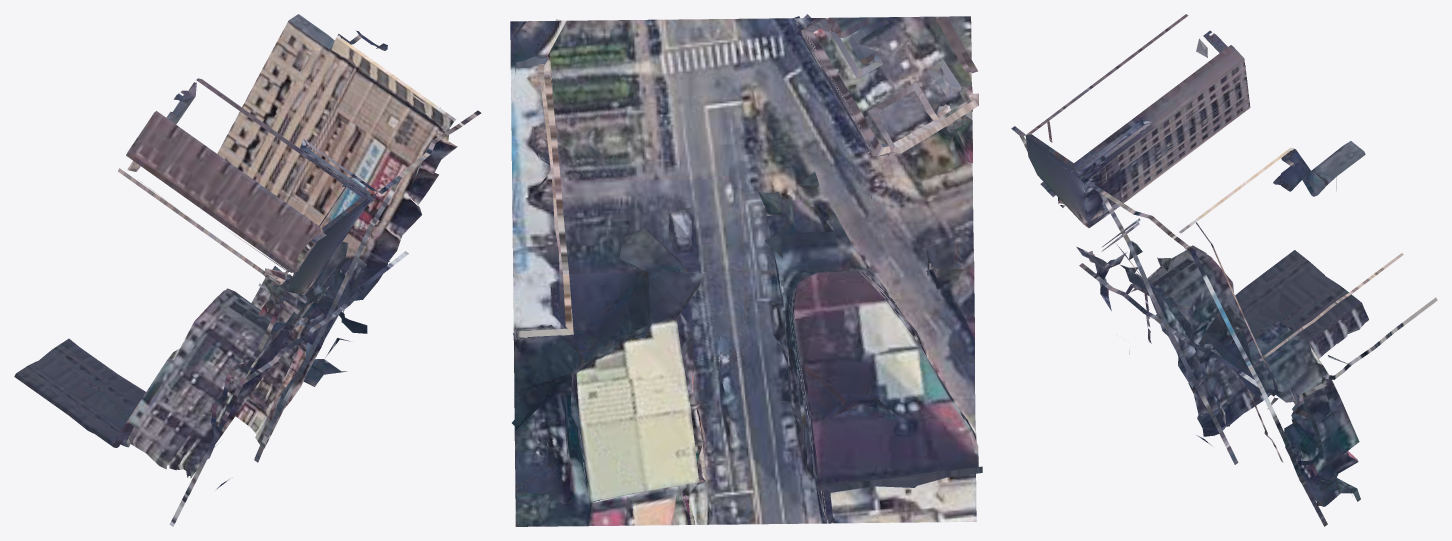
The picture shows the model from 3 angles, left to right: view 1: azimuth 30°, elevation 25°; view 2: azimuth 150°, elevation 25°; view 3: azimuth 270°, elevation 25°; orthographic projection. The views are drawn at different scales.
Size of the model in its own units: 94.48 by 87.27 by 86.31.
1 material, 1 textured.
